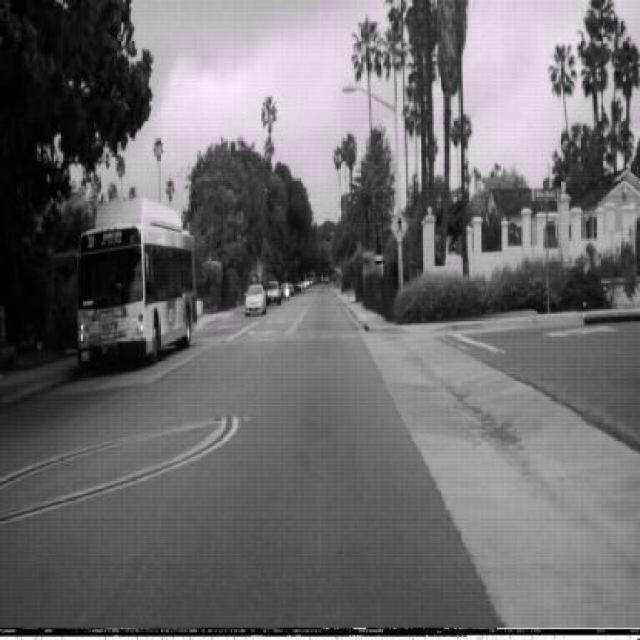pedestrianCrossing: (389, 208, 408, 245)
